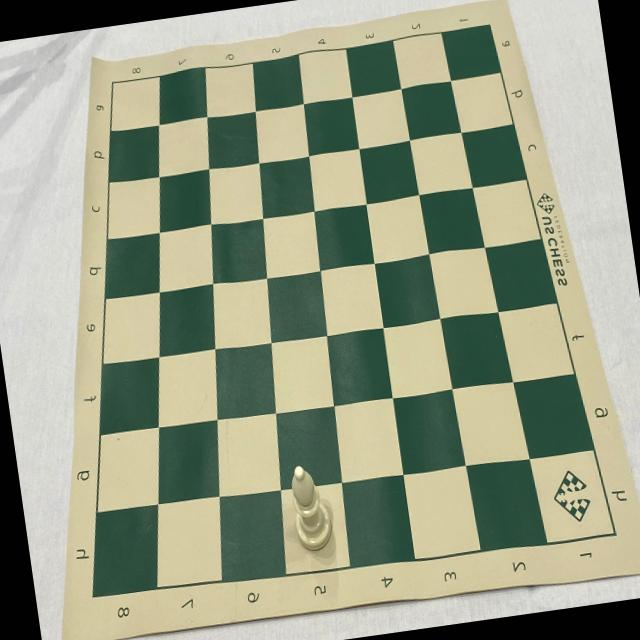white-bishop: (286, 462, 334, 555)
